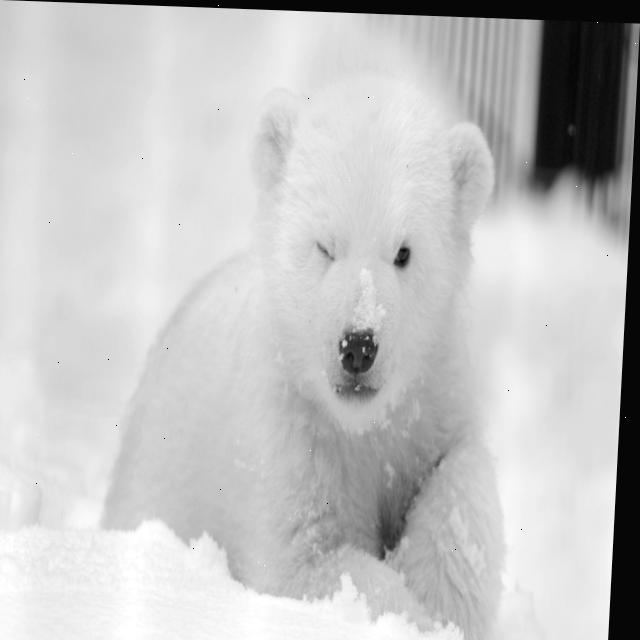Bear: (98, 69, 530, 640)
